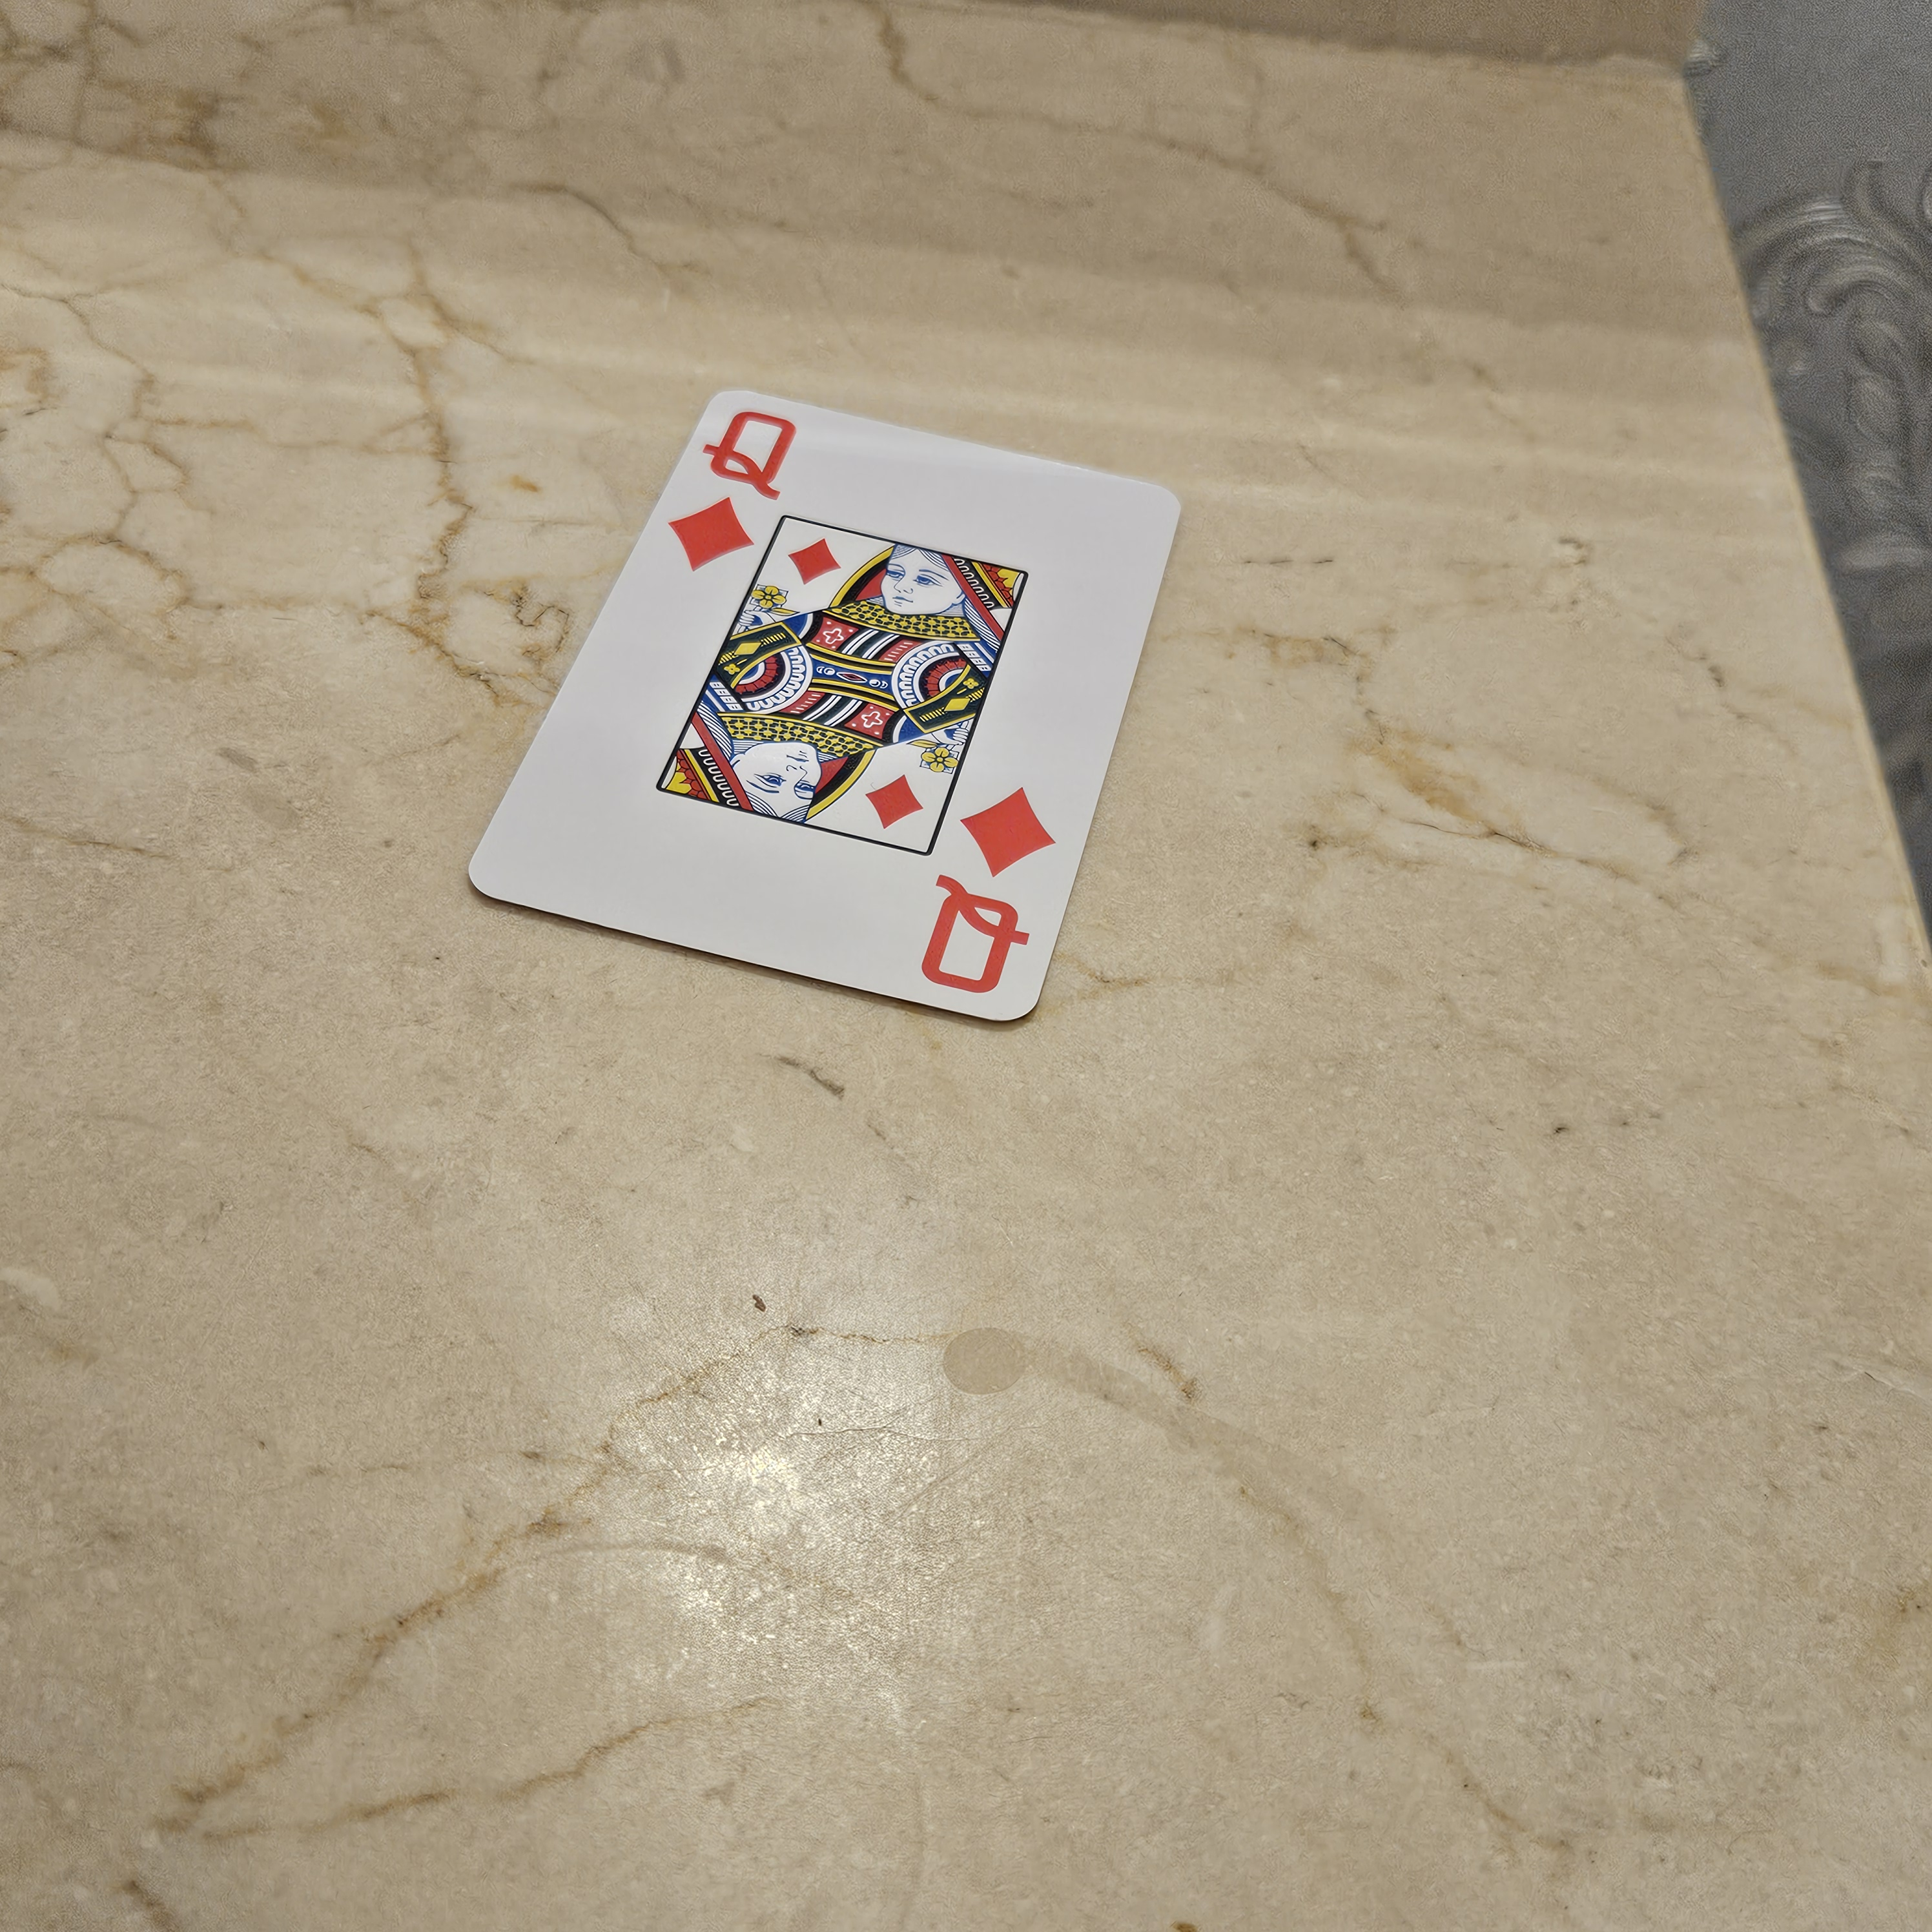QO: (915, 766, 1060, 1023), (649, 395, 800, 579)
